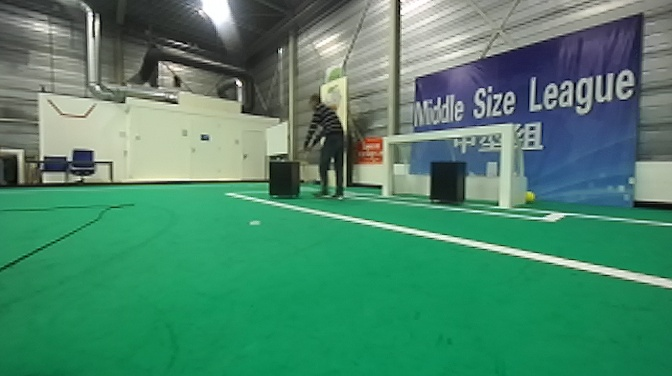ball: (519, 188, 539, 209)
goalpost: (499, 122, 519, 208), (382, 136, 395, 198)
human: (295, 93, 348, 212)
